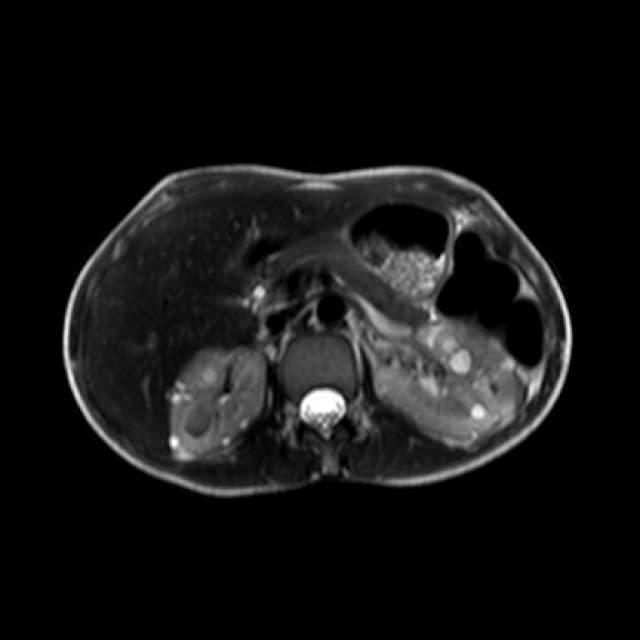sag: (167, 346, 269, 454)
sol: (371, 320, 531, 440)
